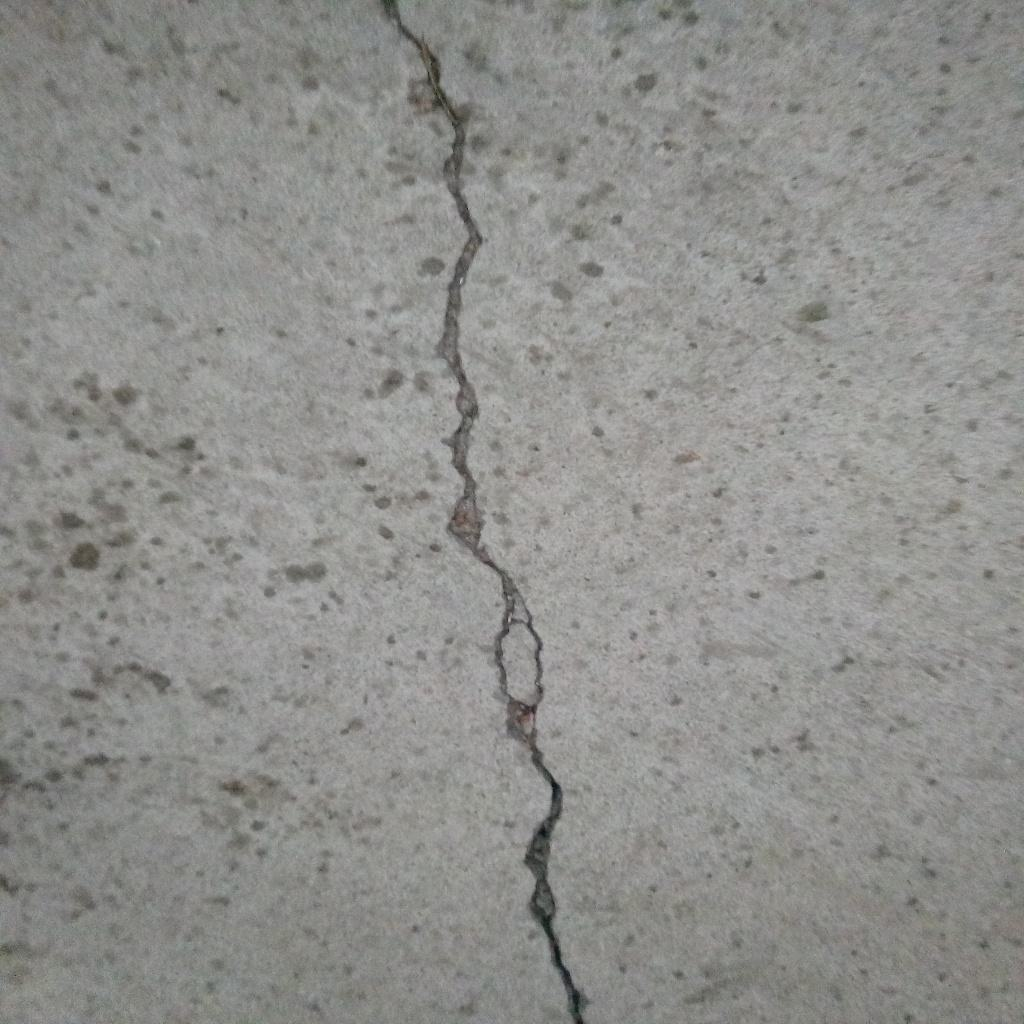Crack: (379, 1, 586, 1024)
